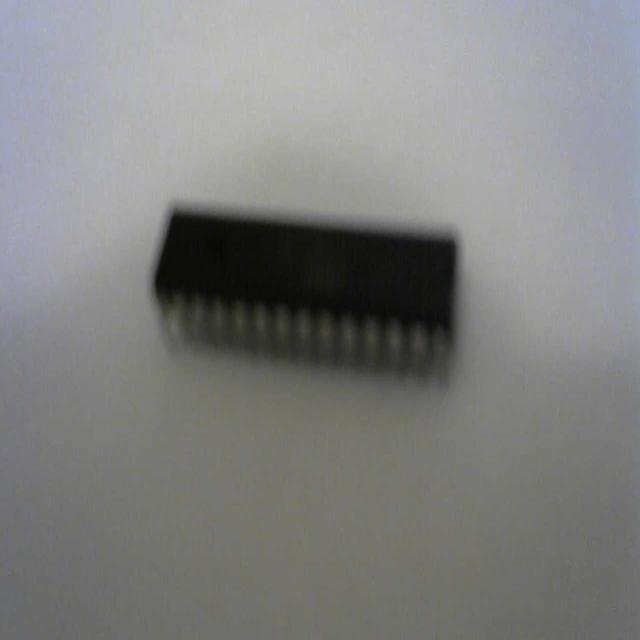atmega: (150, 198, 461, 388)
